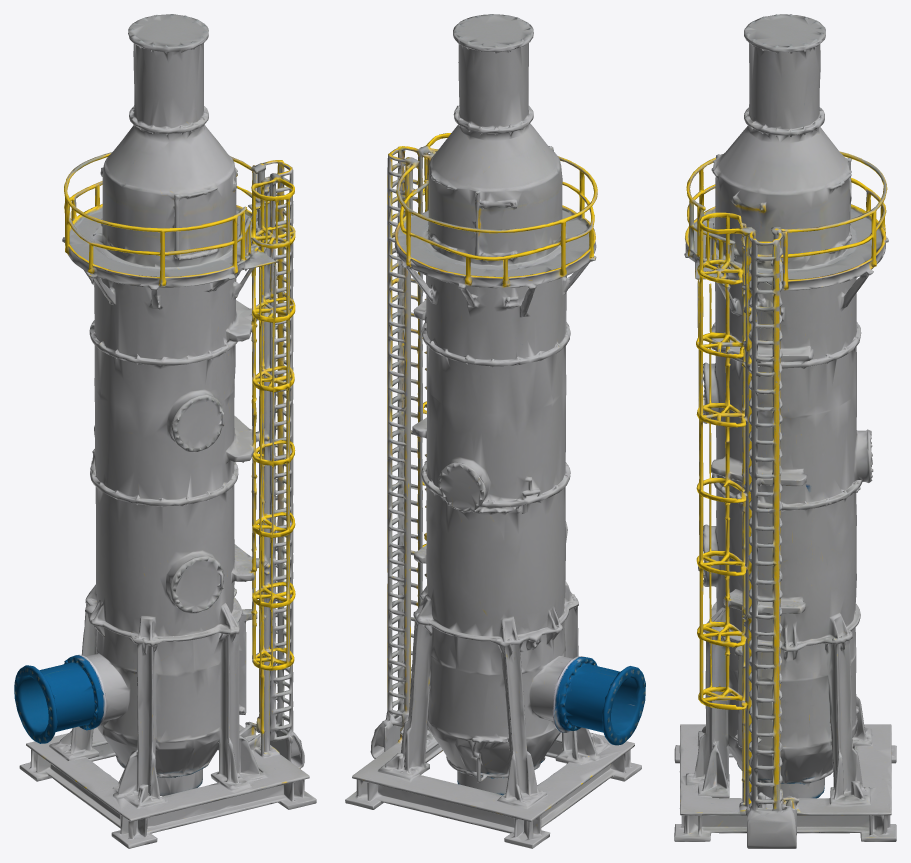
The model's file is M07-scrubber.glb.
3 views of the same model, side by side, from view 1: azimuth 30°, elevation 25°; view 2: azimuth 150°, elevation 25°; view 3: azimuth 270°, elevation 25° (orthographic).
Bounding box in the file's own units: 3.5 × 10 × 2.63.
1 material, 1 textured.
